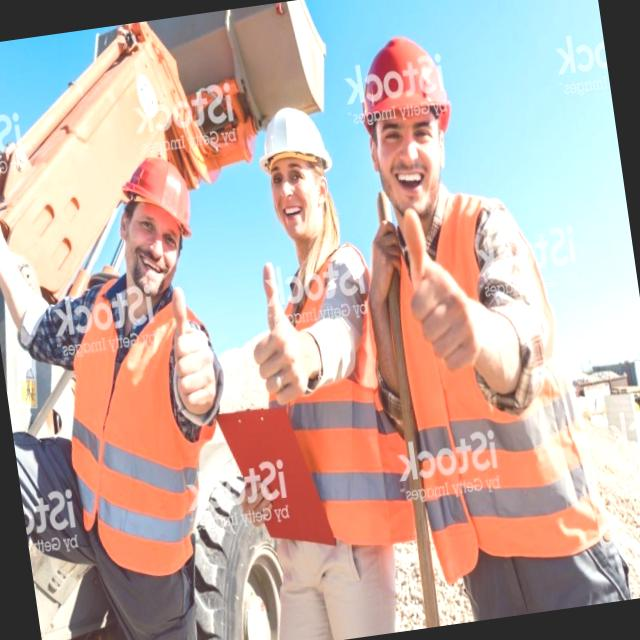helmet: (354, 28, 446, 118), (125, 150, 192, 212), (255, 101, 322, 161)
no-goggles: (363, 108, 447, 162), (253, 156, 320, 208), (122, 211, 188, 263)
vest: (374, 191, 598, 581), (225, 247, 406, 551), (49, 306, 226, 580)
